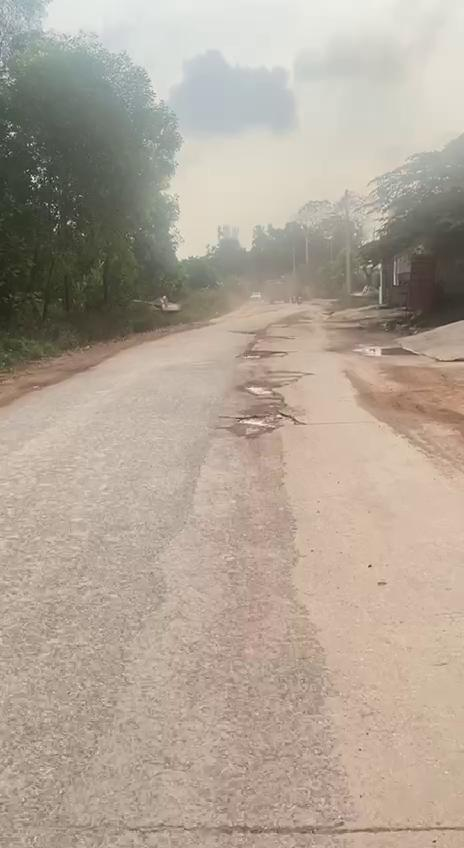pothole: (235, 379, 287, 407), (232, 411, 284, 435)
